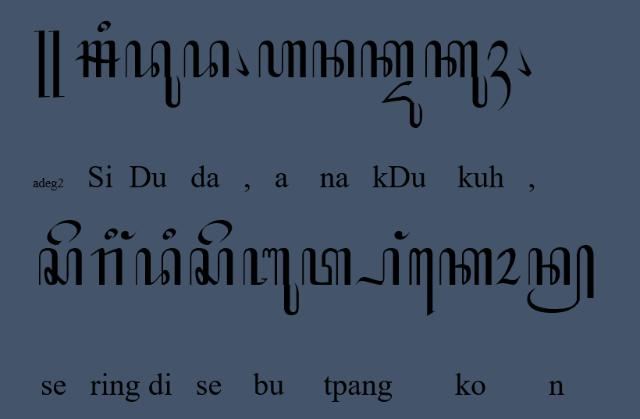-n: (526, 244, 596, 316)
S: (74, 40, 122, 78)
_du: (380, 80, 424, 130)
_h1: (486, 38, 512, 112)
_p: (354, 246, 401, 288)
adeg2: (33, 29, 65, 101)
bu: (242, 246, 300, 317)
d: (182, 40, 232, 80), (134, 248, 182, 286)
du: (125, 40, 182, 108)
e: (46, 218, 82, 246), (198, 218, 232, 246)
e1: (408, 246, 436, 318)
h: (257, 39, 307, 79)
i: (103, 227, 119, 241), (96, 19, 112, 32), (162, 228, 176, 241)
k: (360, 39, 414, 79), (438, 247, 492, 287)
kom: (233, 46, 250, 78), (516, 46, 532, 78)
ku: (423, 39, 489, 109)
n: (310, 40, 356, 78)
ng: (393, 229, 411, 240), (120, 230, 138, 240)
o: (493, 247, 521, 287)
r: (90, 246, 124, 286)
s: (189, 245, 235, 287), (38, 247, 84, 287)
t: (300, 247, 352, 287)
